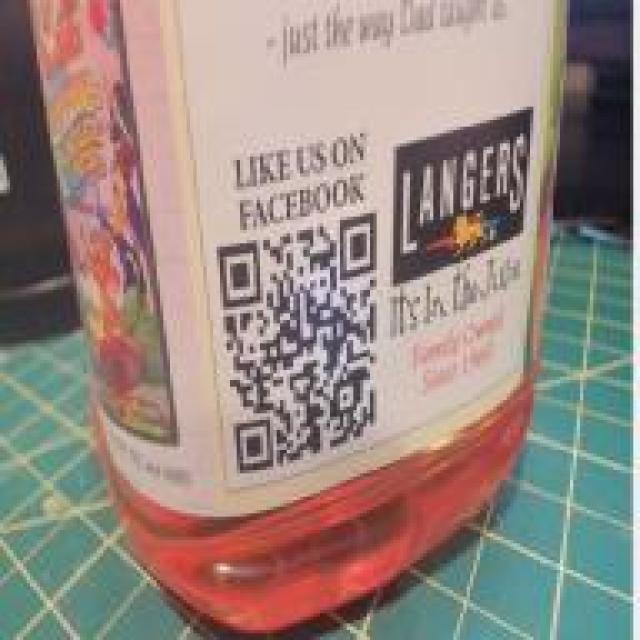QR_CODE: (200, 183, 388, 485)
